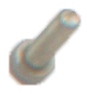Standing-Screw: (0, 5, 85, 93)
